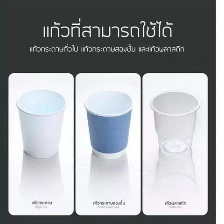paper_cup: (12, 84, 69, 161), (81, 87, 135, 163), (146, 86, 203, 144)
